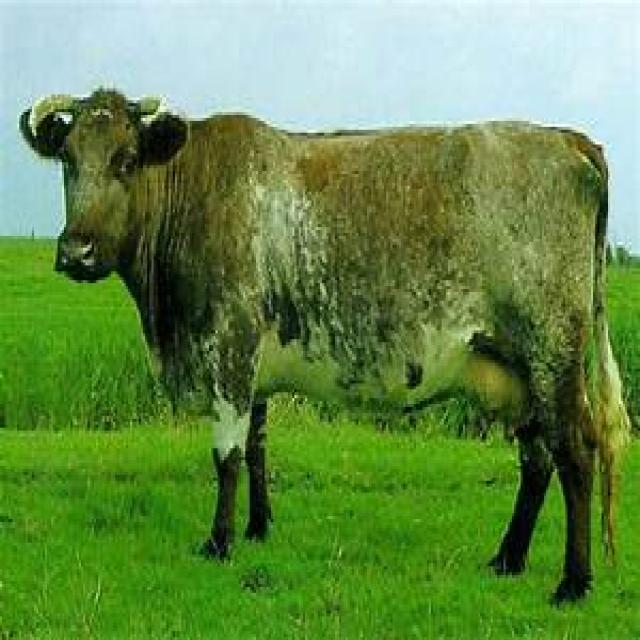cow: (21, 90, 629, 595)
